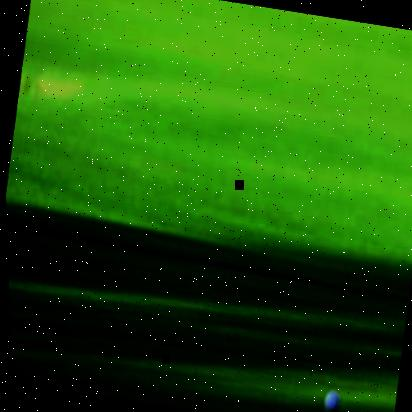ClubHead: (316, 386, 340, 412)
